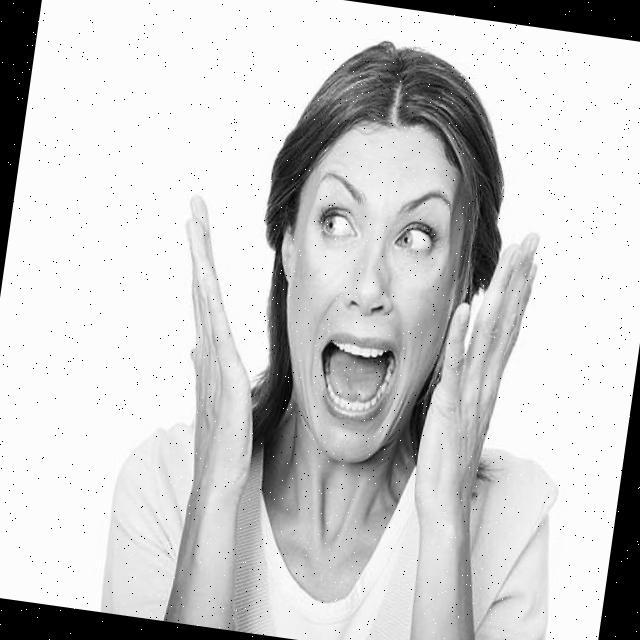Fear: (267, 114, 475, 479)
